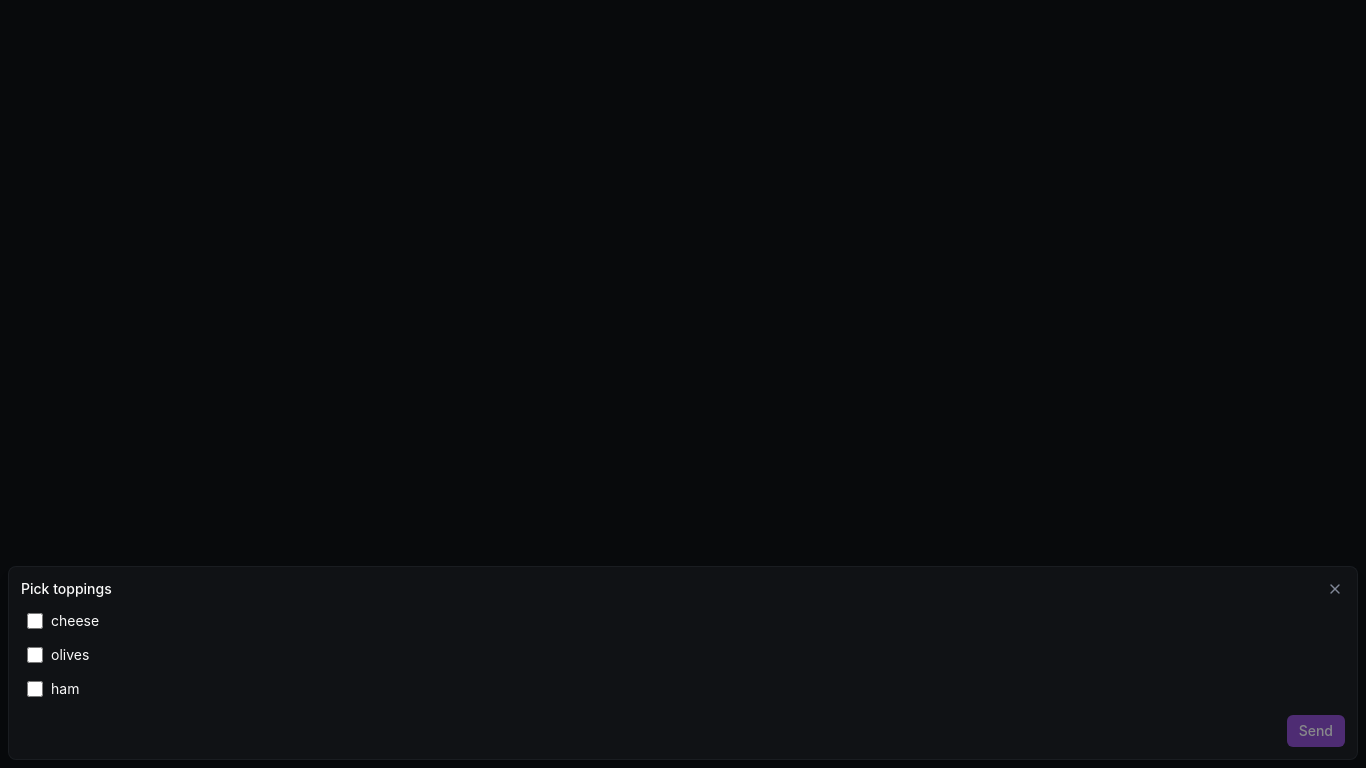
Test case: PromptCard — multi-select › disables Send until at least one choice is checked
Expected: the button with test id "prompt-card-send" is disabled, [1287,715,1345,747]
Click the checkbox labelled "olives". click: (35, 655)
box: [27,647,43,663]
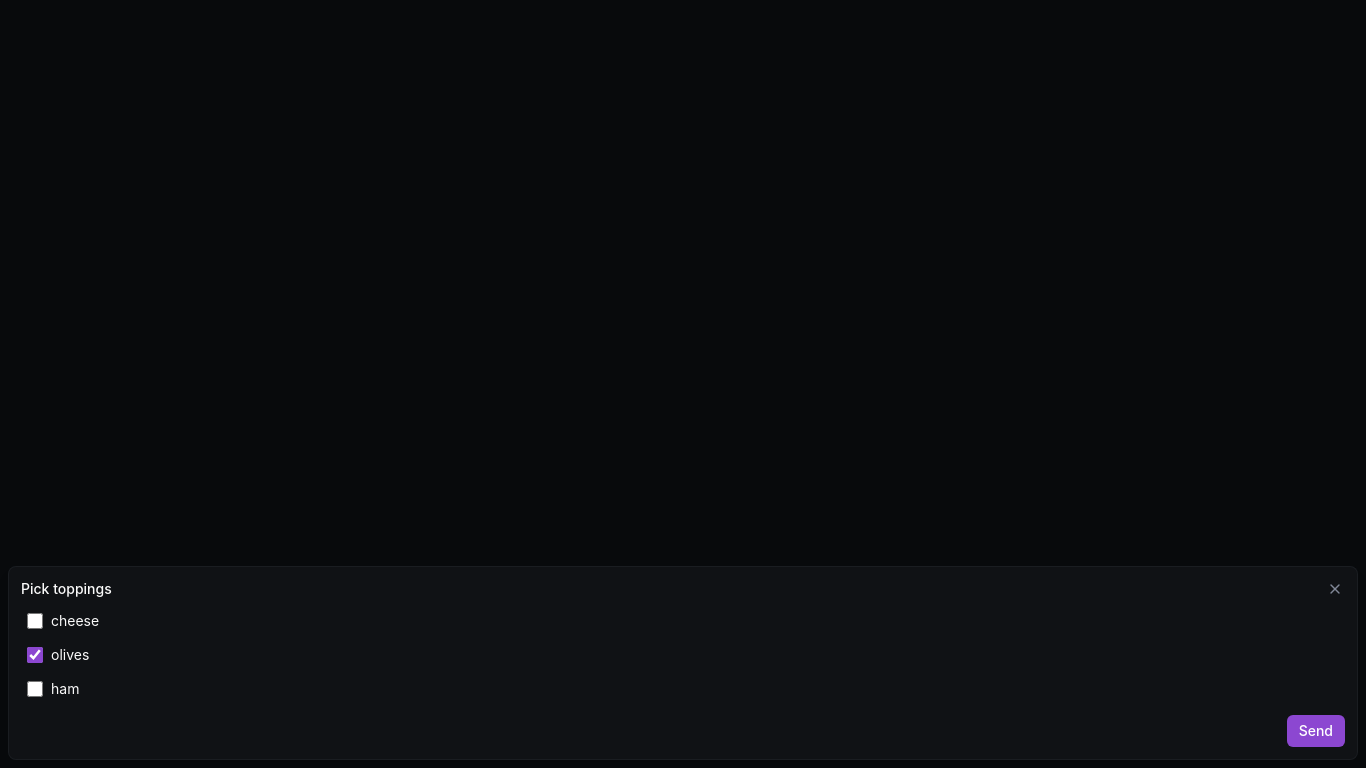
Now the button with test id "prompt-card-send" is enabled, box [1287,715,1345,747]
